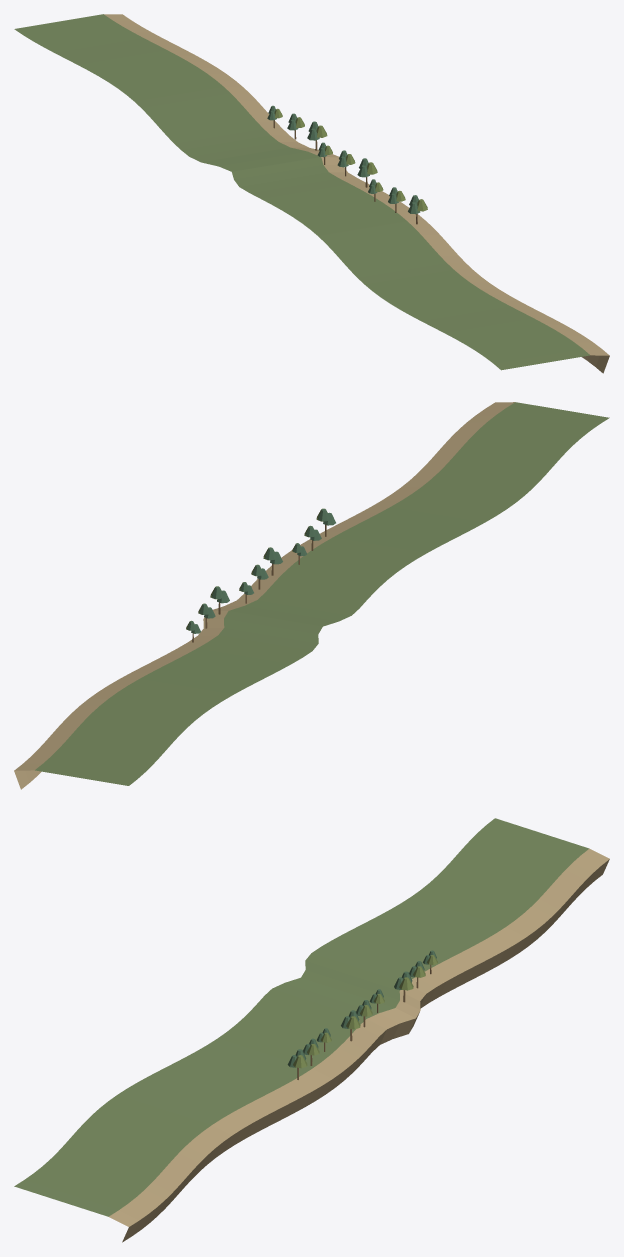
File: layout_western_land.glb
The picture shows the model from 3 angles, top to bottom: view 1: azimuth 30°, elevation 25°; view 2: azimuth 150°, elevation 25°; view 3: azimuth 330°, elevation 25°; orthographic projection. The views are drawn at different scales.
Parts seen in each view (by area): view 1: western_land_HarborLayout_sand.001, western_land_HarborLayout_leaf.001, western_land_HarborLayout_leaf_light.001; view 2: western_land_HarborLayout_sand.001, western_land_HarborLayout_leaf.001; view 3: western_land_HarborLayout_sand.001, western_land_HarborLayout_leaf_light.001, western_land_HarborLayout_leaf.001.
Part boxes in pixels (left/top/right/bottom): western_land_HarborLayout_sand.001: left=14, top=14, right=609, bottom=373; western_land_HarborLayout_leaf.001: left=267, top=105, right=420, bottom=214; western_land_HarborLayout_leaf_light.001: left=274, top=108, right=427, bottom=211; western_land_HarborLayout_sand.001: left=14, top=402, right=609, bottom=789; western_land_HarborLayout_leaf.001: left=187, top=508, right=335, bottom=633; western_land_HarborLayout_sand.001: left=14, top=818, right=609, bottom=1242; western_land_HarborLayout_leaf_light.001: left=293, top=955, right=437, bottom=1068; western_land_HarborLayout_leaf.001: left=287, top=950, right=436, bottom=1067.
Bounding box in the file's own units: 20.8 × 7.81 × 135.
